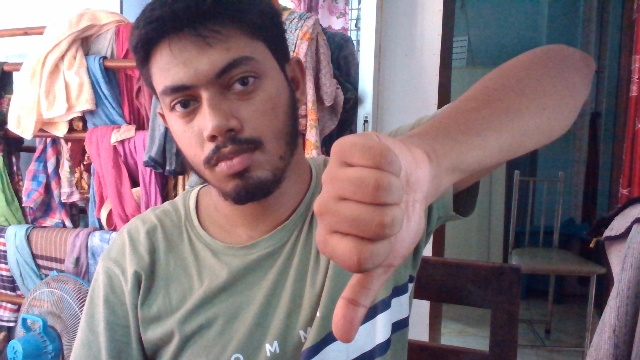no: (303, 119, 434, 346)
